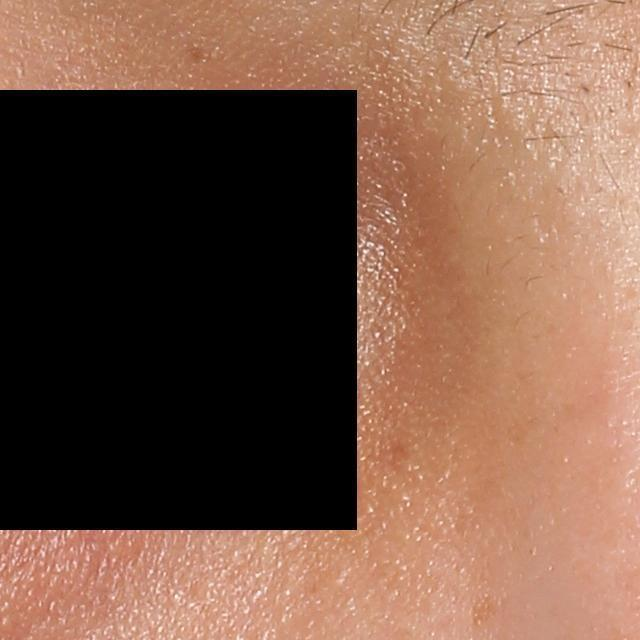melasma: (470, 595, 504, 629)
